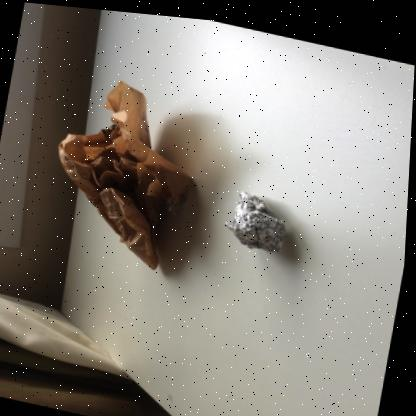Metal: (226, 185, 288, 245), (168, 183, 189, 210)
Paper: (59, 77, 195, 265)
